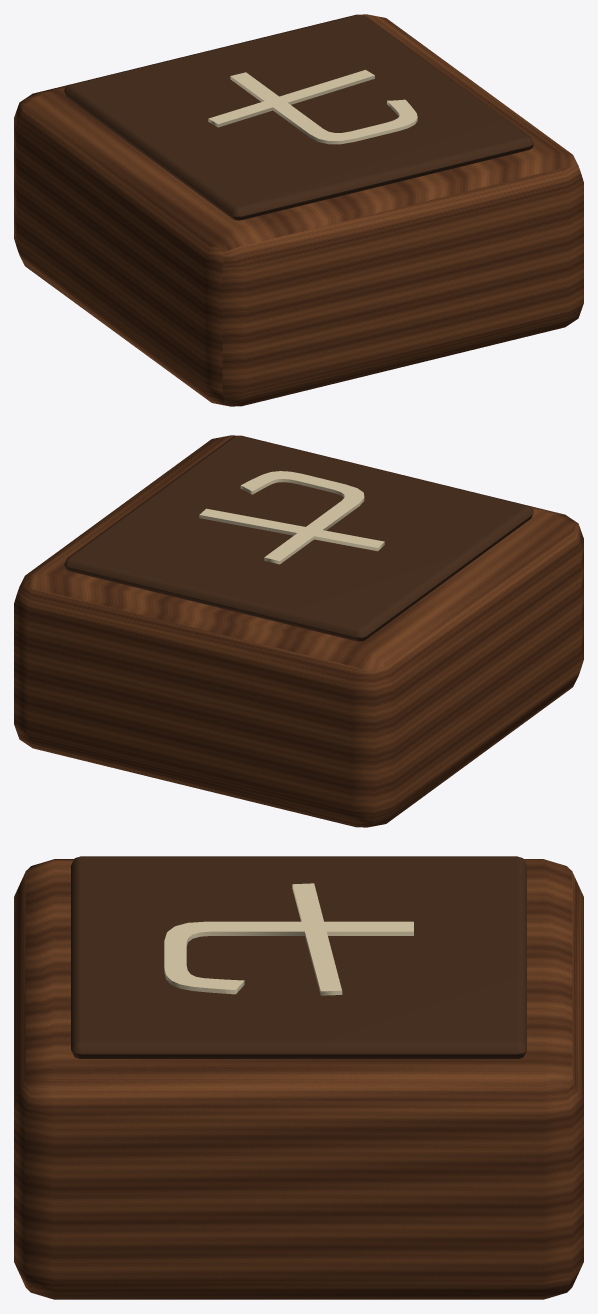
The model's file is Pickup_WoodBlock_七.fbx.
3 renders of one model, top to bottom at view 1: azimuth 30°, elevation 25°; view 2: azimuth 150°, elevation 25°; view 3: azimuth 270°, elevation 25°, orthographic. The views are drawn at different scales.
Visible parts, largest first — view 1: Letter block 七.001, Letter inset 七.001, Carved character 七.001; view 2: Letter block 七.001, Letter inset 七.001, Carved character 七.001; view 3: Letter block 七.001, Letter inset 七.001, Carved character 七.001.
Part boxes in pixels (x1,y1,x2,y2): Letter block 七.001: (14, 14, 583, 406); Letter inset 七.001: (64, 14, 533, 220); Carved character 七.001: (208, 70, 417, 144); Letter block 七.001: (14, 435, 583, 827); Letter inset 七.001: (64, 435, 533, 641); Carved character 七.001: (199, 471, 384, 564); Letter block 七.001: (14, 859, 583, 1299); Letter inset 七.001: (71, 856, 526, 1058); Carved character 七.001: (164, 883, 413, 995).
Bounding box in the file's own units: 0.085 × 0.0424 × 0.085.
3 materials, 1 textured.
